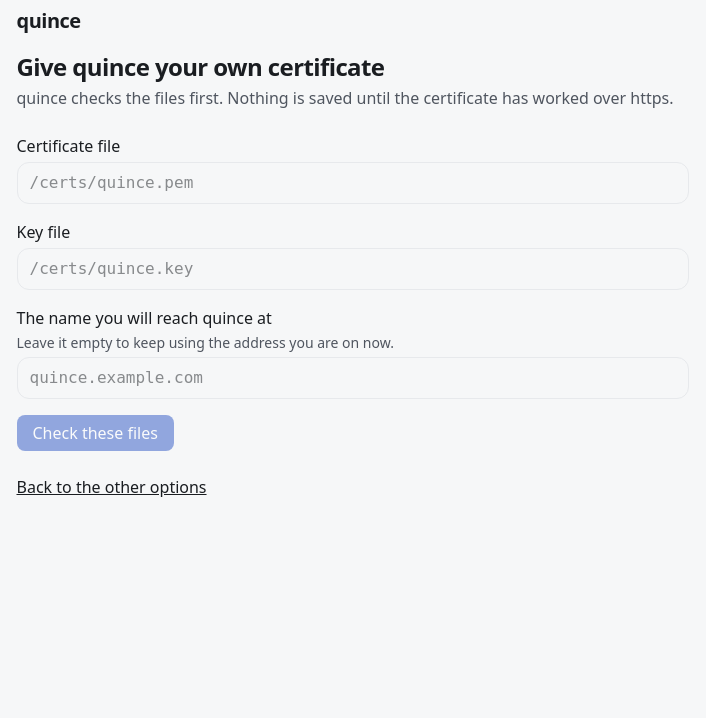
the certificate step › offers the trial once the files check out
In the field labelled "Certificate file": (352, 183) [16,162,688,204], type "/tls/fullchain.pem"
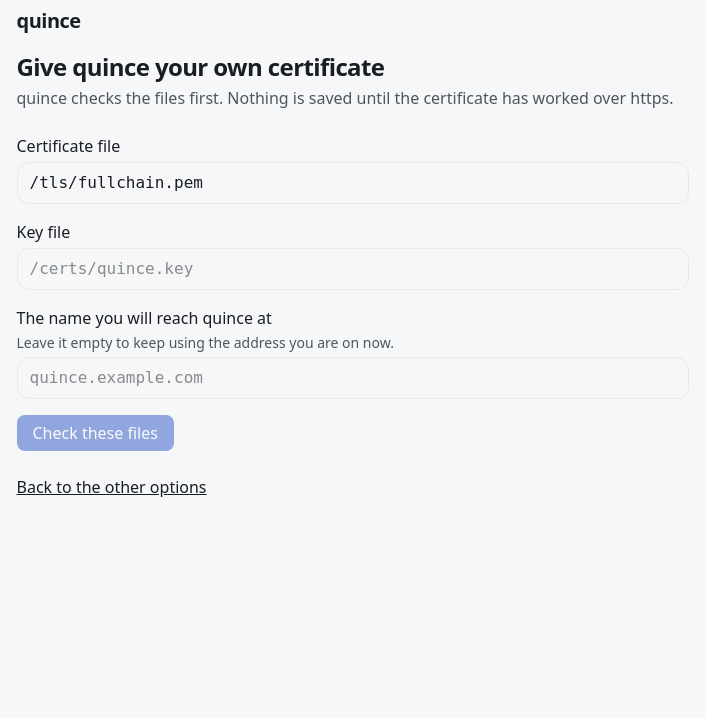
In the field labelled "Key file": (352, 269) [16,248,688,290], type "/tls/privkey.pem"
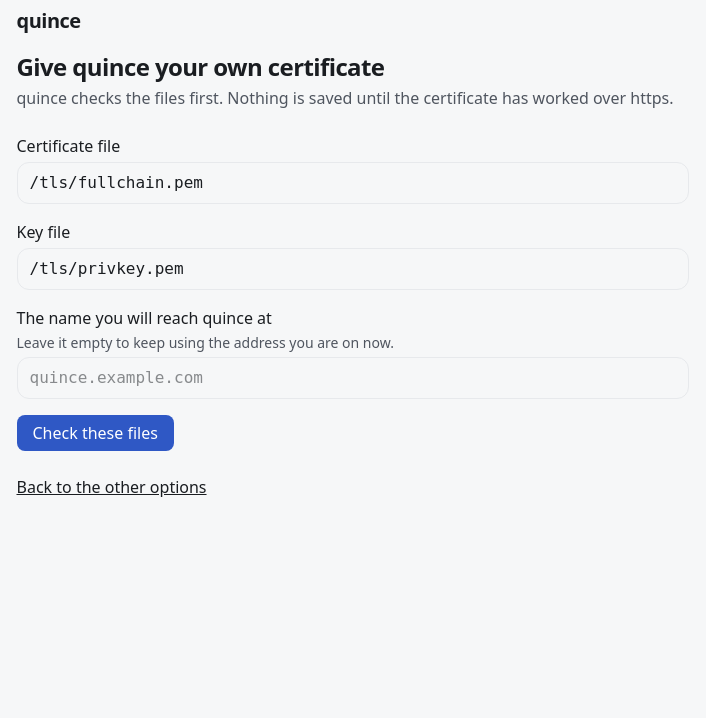
Click the button "Check these files": (95, 433) [16,415,174,451]
(page scrolled)
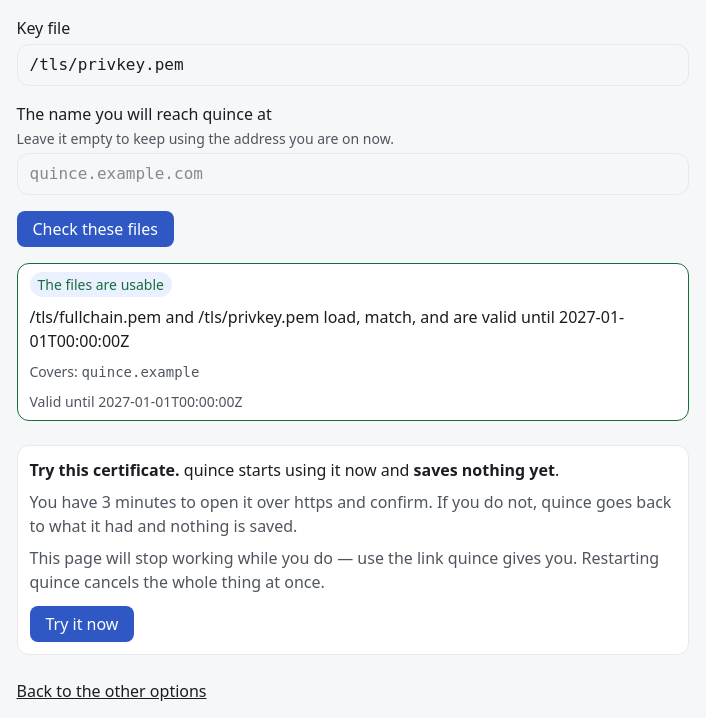
expect the button "Try it now" is shown: met, box [30,606,134,642]
